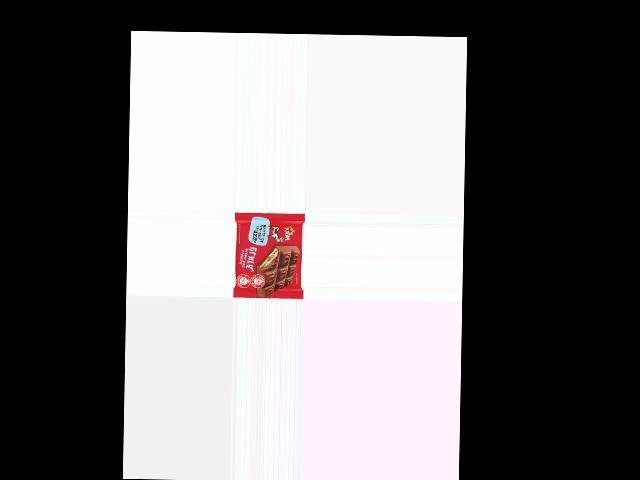chocolate: (232, 215, 304, 298)
